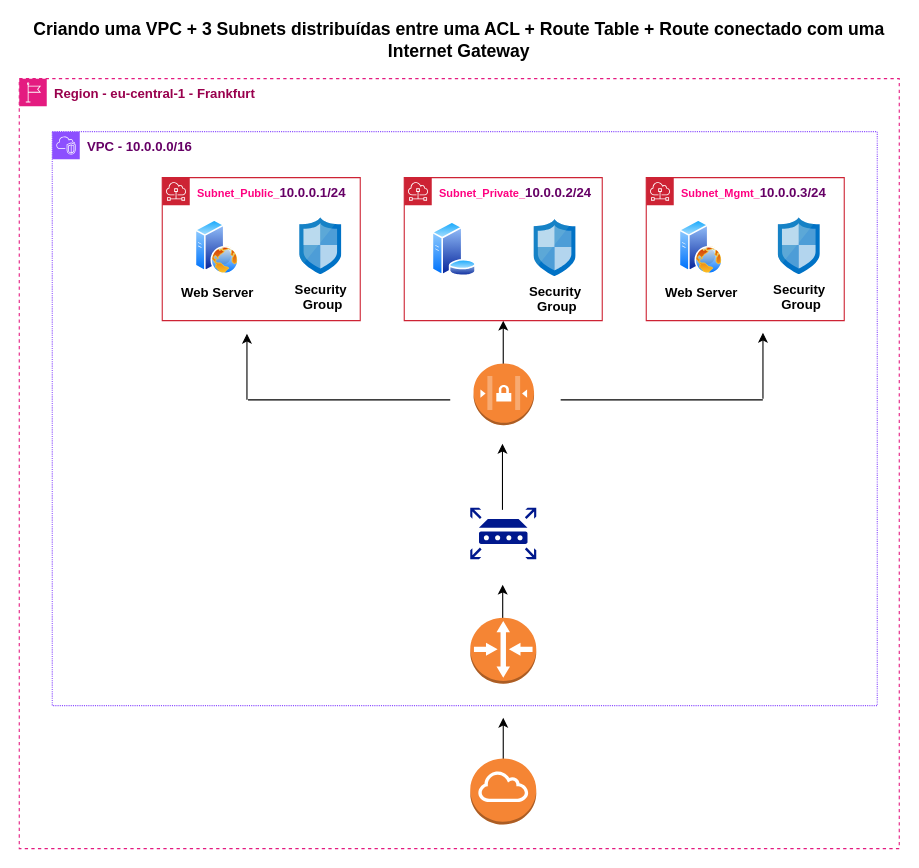
This 919x868 diagram has some shape labels left out. Here are the shapes that lost their labels. From the top down, the centre of each, then its label:
At point 453,248: "DataBase".
At point 503,393: "Network ACL".
At point 503,533: "Route Table".
At point 502,650: "Route".
At point 502,790: "Internet Gateway".
